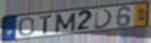2: (76, 9, 95, 33)
6: (115, 5, 133, 28)
D: (94, 8, 114, 31)
M: (54, 12, 78, 35)
O: (18, 16, 36, 38)
T: (38, 15, 54, 35)
